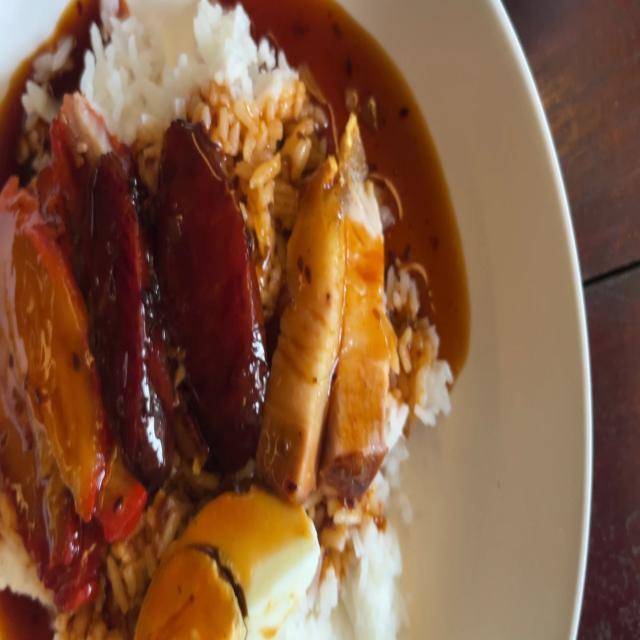01boiled_egg: (138, 483, 317, 640)
01chainese_sausage: (96, 143, 258, 469), (165, 123, 262, 455), (87, 151, 164, 460)
01crispy_pork: (275, 119, 392, 494), (337, 126, 392, 499), (274, 156, 329, 483)
01red_pork: (0, 143, 102, 586), (14, 201, 104, 508), (56, 72, 108, 186)
01red_pork_and_crispy_pork: (0, 0, 453, 640)
01rice: (80, 0, 317, 128), (320, 495, 409, 640), (85, 510, 171, 640)
